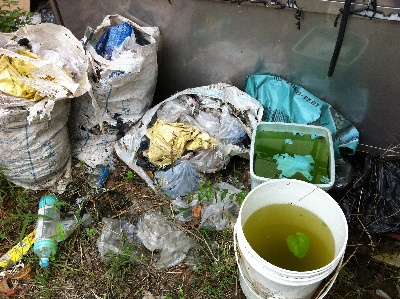bottle: (34, 194, 62, 267)
box: (249, 119, 339, 194)
bucket: (231, 177, 350, 299)
plastic_bag: (114, 83, 265, 194), (1, 22, 91, 193), (70, 14, 159, 170), (245, 68, 361, 155), (97, 210, 204, 273)
